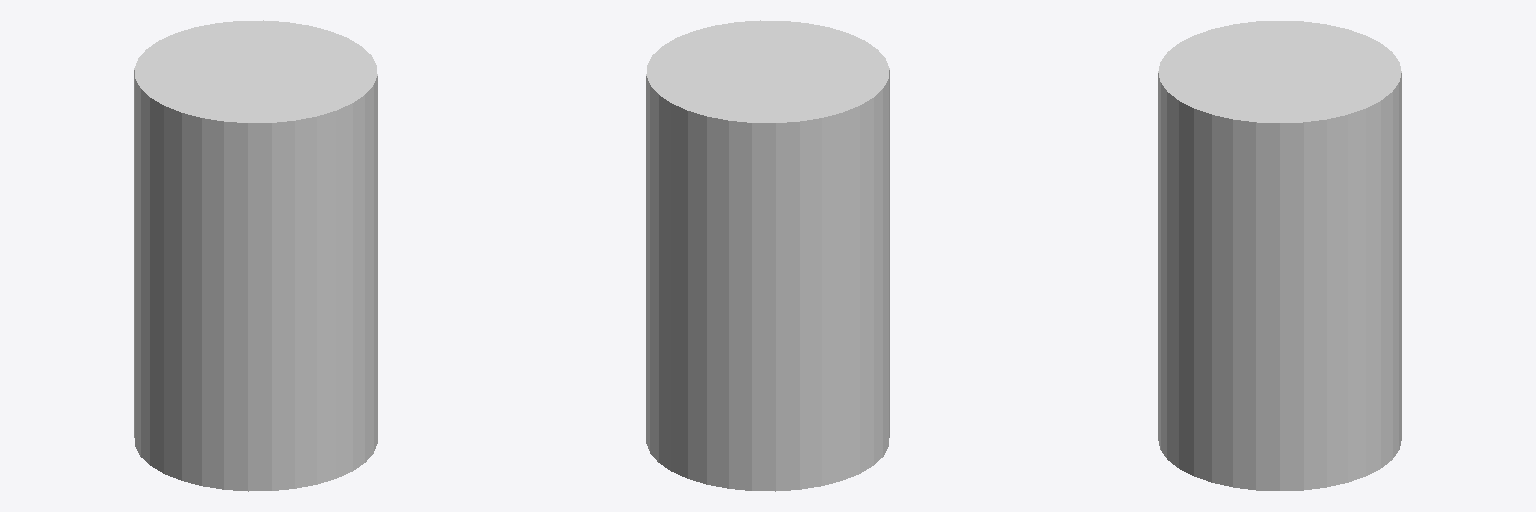
robot.urdf — round_table:
<?xml version="1.0"?>
<robot name="round_table">
  <link name="table_top">
    <inertial>
      <origin xyz="0 0 0.025" rpy="0 0 0" />
      <mass value="18.0" />
      <inertia ixx="0.01703125" ixy="0" ixz="0" iyy="0.01703125" iyz="0"
          izz="0.0003125" />
    </inertial>
    <visual>
      <origin xyz="0 0 -0.5" rpy="0 0 0" />
      <geometry>
        <!--<box size="0.6 0.6 1"/>-->
        <cylinder radius="0.3" length="1"/>
      </geometry>
      <material name="White">
        <color rgba="0.9 0.9 0.9 1.0"/>
      </material>
    </visual>
    <collision>
      <origin xyz="0 0 -0.5" rpy="0 0 0" />
      <geometry>
        <!--<box size="0.6 0.6 1"/>-->
        <cylinder radius="0.3" length="1"/>
      </geometry>
    </collision>
   </link>
</robot>

--- Facts derived from the render (not from the file) ---
The picture shows the robot from 3 angles, left to right: view 1: azimuth 30°, elevation 25°; view 2: azimuth 150°, elevation 25°; view 3: azimuth 270°, elevation 25°; orthographic projection.
Robot: round_table — 1 links, 0 joints (none); root link table_top; default pose: all joints at 0.
Visible links, largest first — view 1: table_top; view 2: table_top; view 3: table_top.
Boxes of the visible links, left/top/right/bottom form: table_top: left=134, top=20, right=377, bottom=491; table_top: left=646, top=20, right=889, bottom=491; table_top: left=1158, top=21, right=1401, bottom=490.
Bounding box of the posed robot: 0.6 × 0.6 × 1 m (x, y, z).
Geometry: primitives only (box / cylinder / sphere), no mesh files.